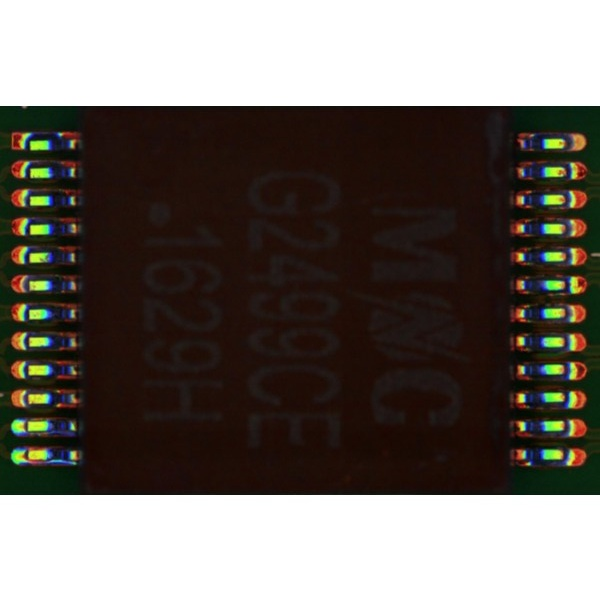Bad_podu: (20, 451, 34, 459)
Bad_qiaojiao: (28, 459, 78, 465)
